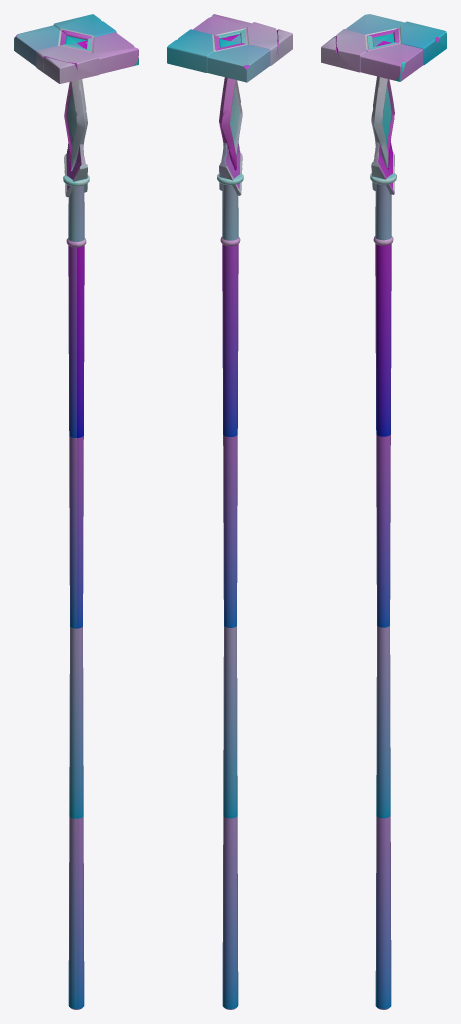
3 renders of one model, left to right at view 1: azimuth 30°, elevation 25°; view 2: azimuth 150°, elevation 25°; view 3: azimuth 330°, elevation 25°, orthographic.
Visible parts, largest first — view 1: SM_Spiked_Plant_04_LOD0; view 2: SM_Spiked_Plant_04_LOD0; view 3: SM_Spiked_Plant_04_LOD0.
Boxes of the visible parts, x1,y1,x2,y2 form: SM_Spiked_Plant_04_LOD0: (14,14,138,1009); SM_Spiked_Plant_04_LOD0: (167,14,292,1009); SM_Spiked_Plant_04_LOD0: (321,14,446,1009).
Bounding box in the file's own units: 0.5127 × 5.85 × 0.5123.
